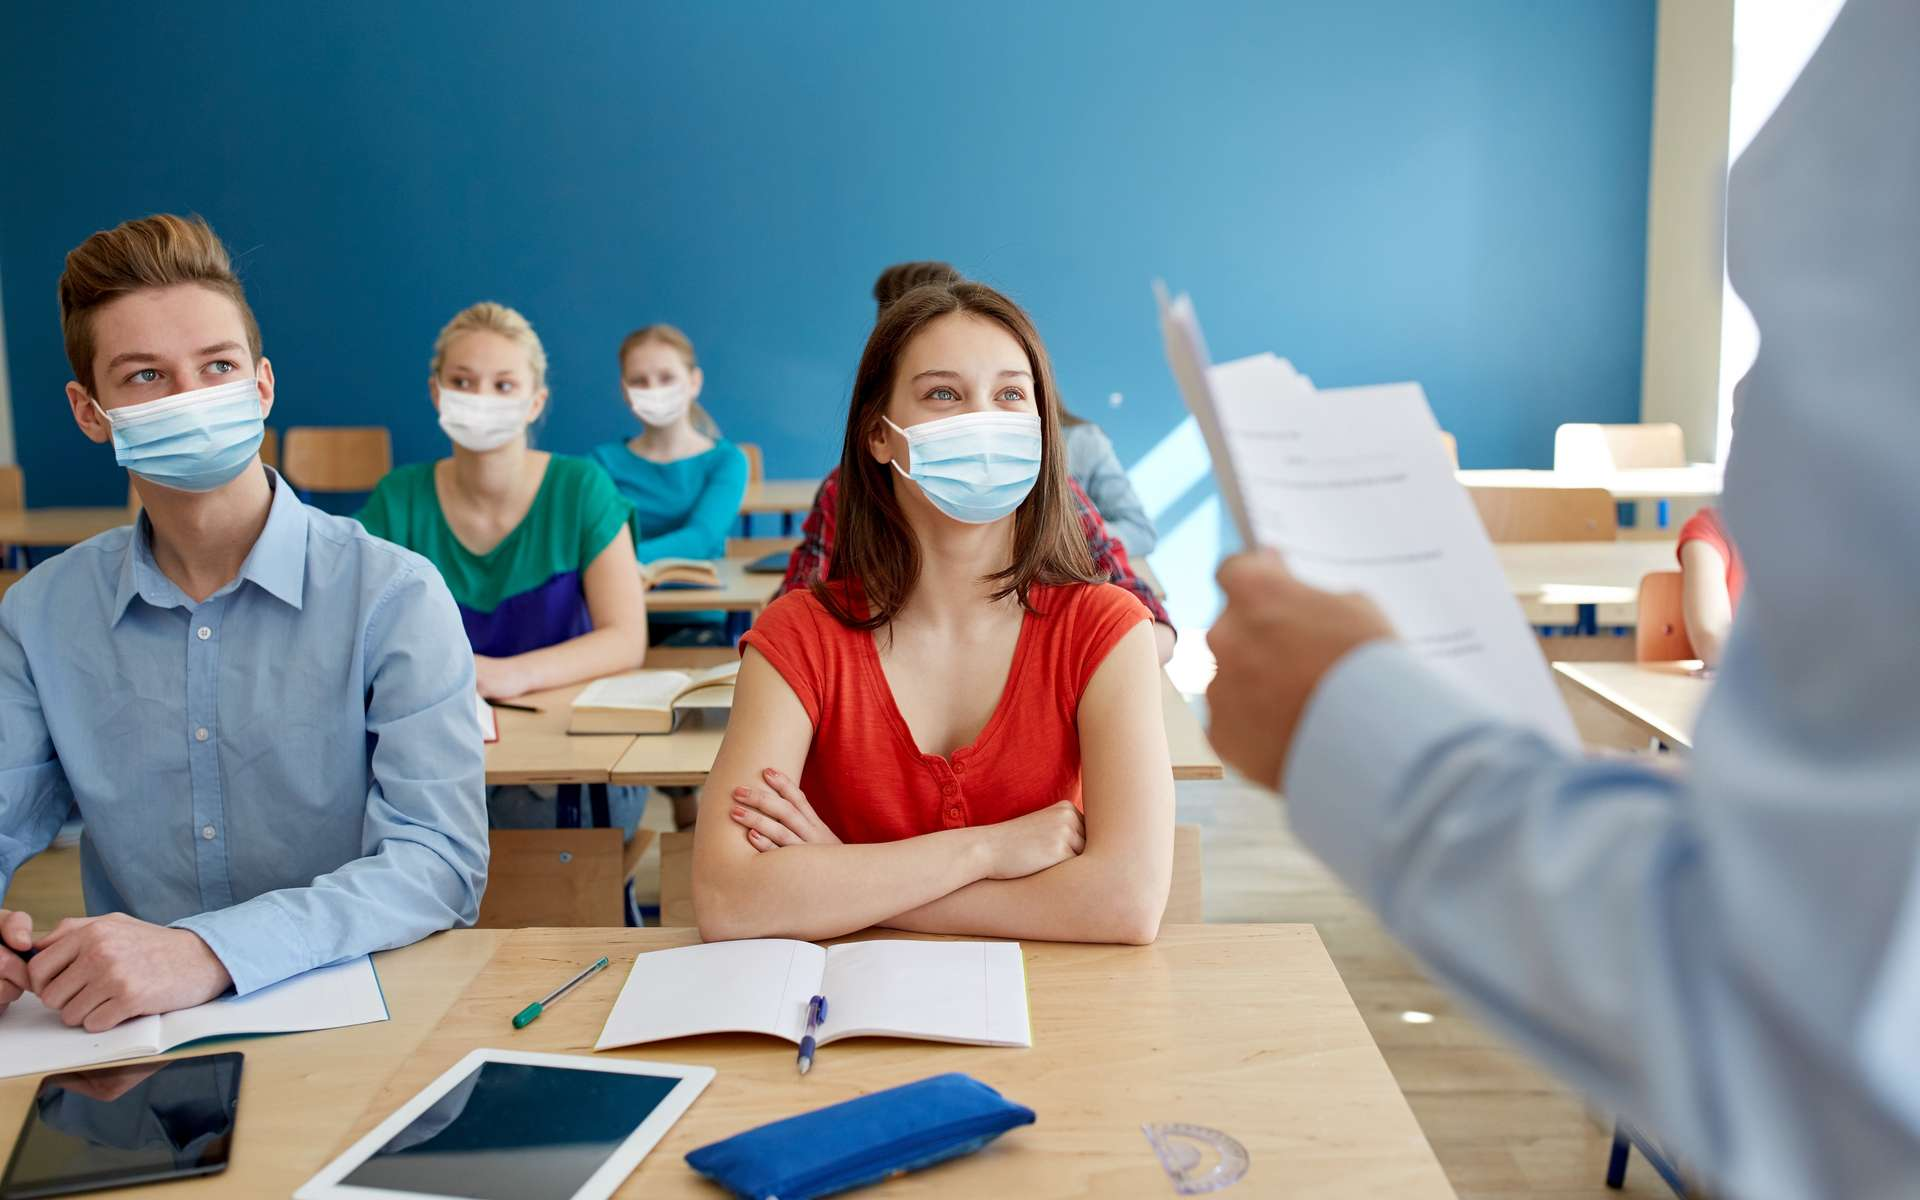with_mask: (78, 292, 278, 489), (882, 335, 1057, 526), (435, 335, 533, 451), (617, 339, 701, 426)
